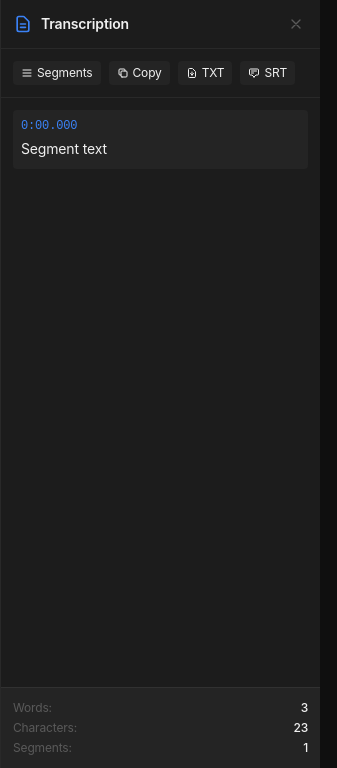
it: TranscriptionPanel Component › Transcription Display › should allow toggling between segments and full text view
The image size is (337, 768).
Expected: the text "Segment text" is shown, [21, 140, 107, 157]
Click toggle button
What coordinates should you click on to do the following:
click the button titled "Toggle view"
I would click on:
 (57, 73)
Its box is [13, 61, 100, 85].
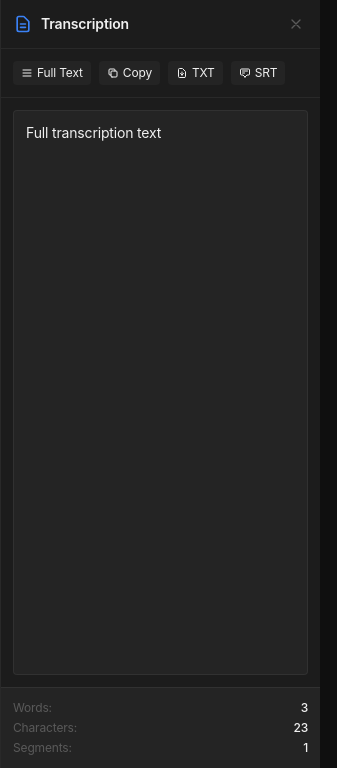
Expected: the text box showing "Full transcription text" is shown
